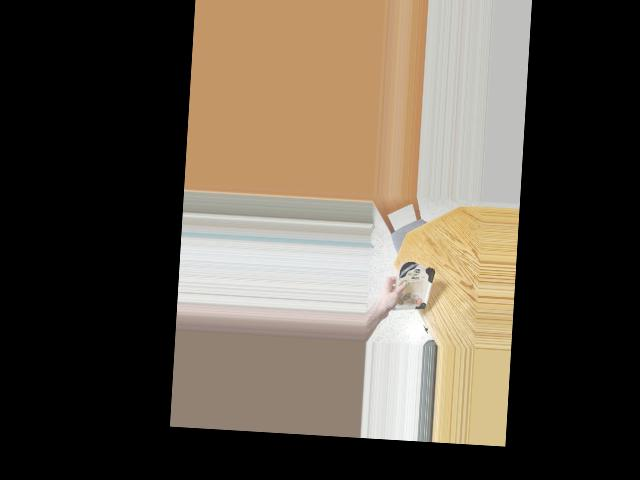cheese: (393, 258, 431, 318)
